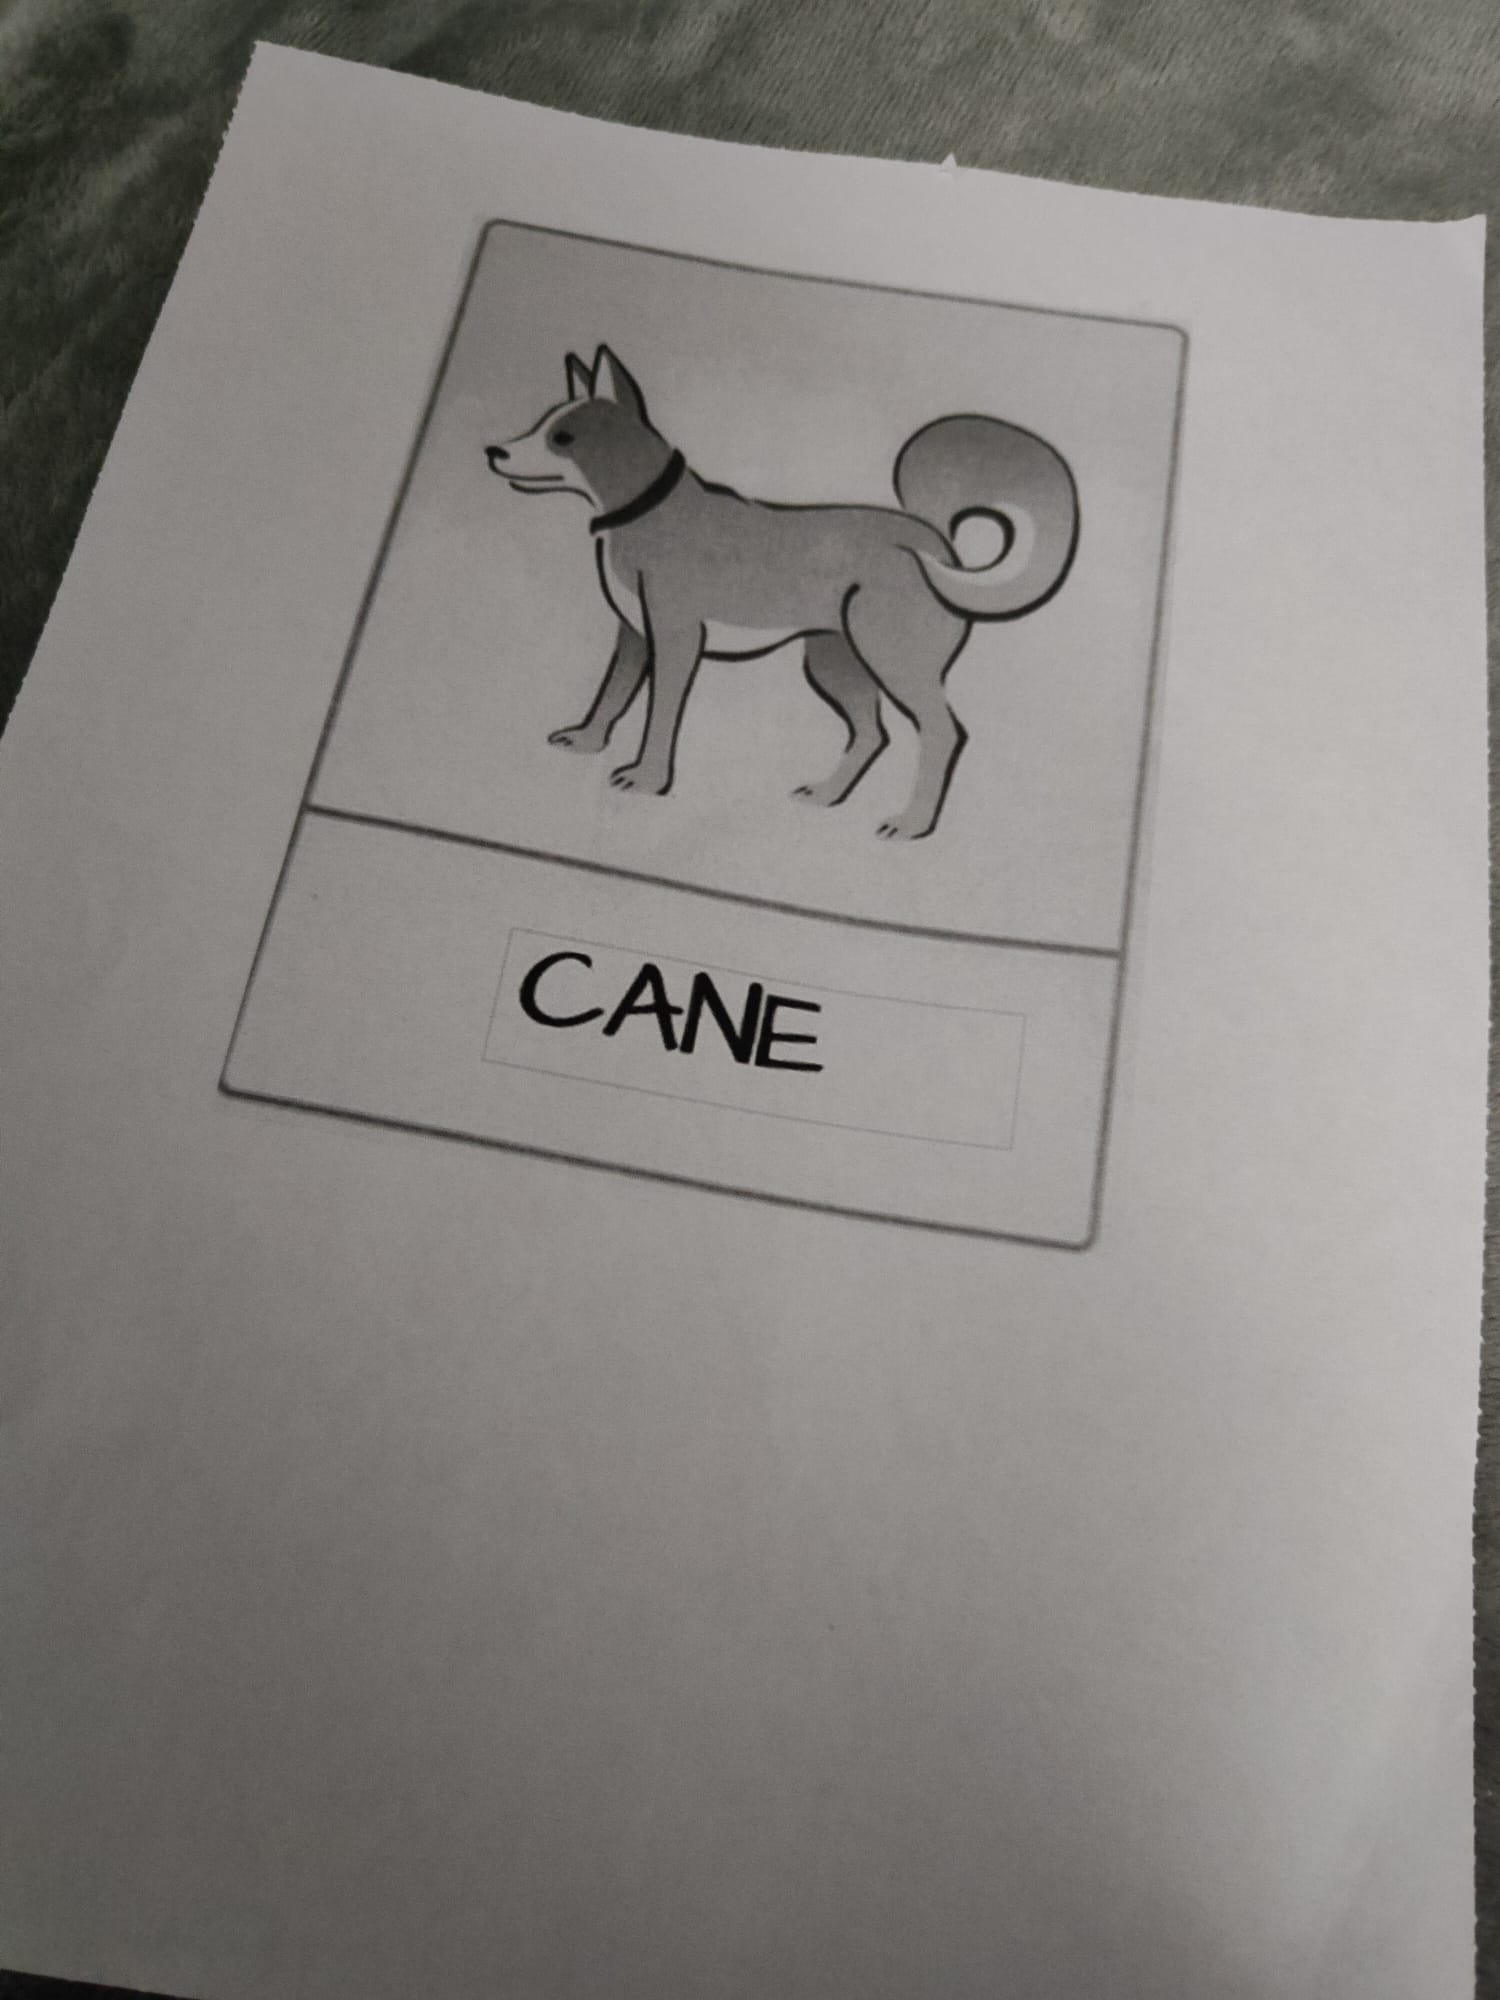cane: (352, 187, 1148, 1193)
